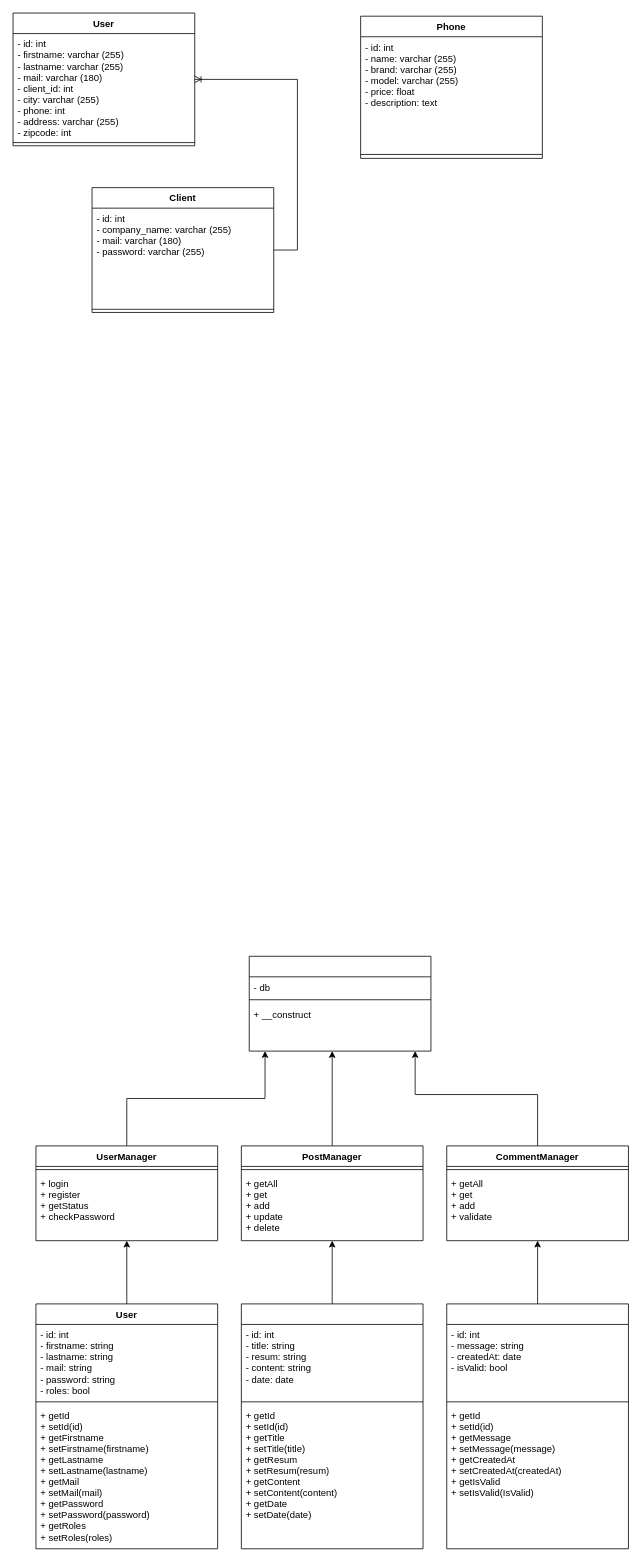
This 641x1562 diagram has some shape labels left out. The box of each missing label's shape, as (x1, y1, x2, y2) in pixels:
Comment: (446, 1303, 628, 1549)
Manager: (248, 956, 431, 1051)
Post: (241, 1303, 423, 1549)
